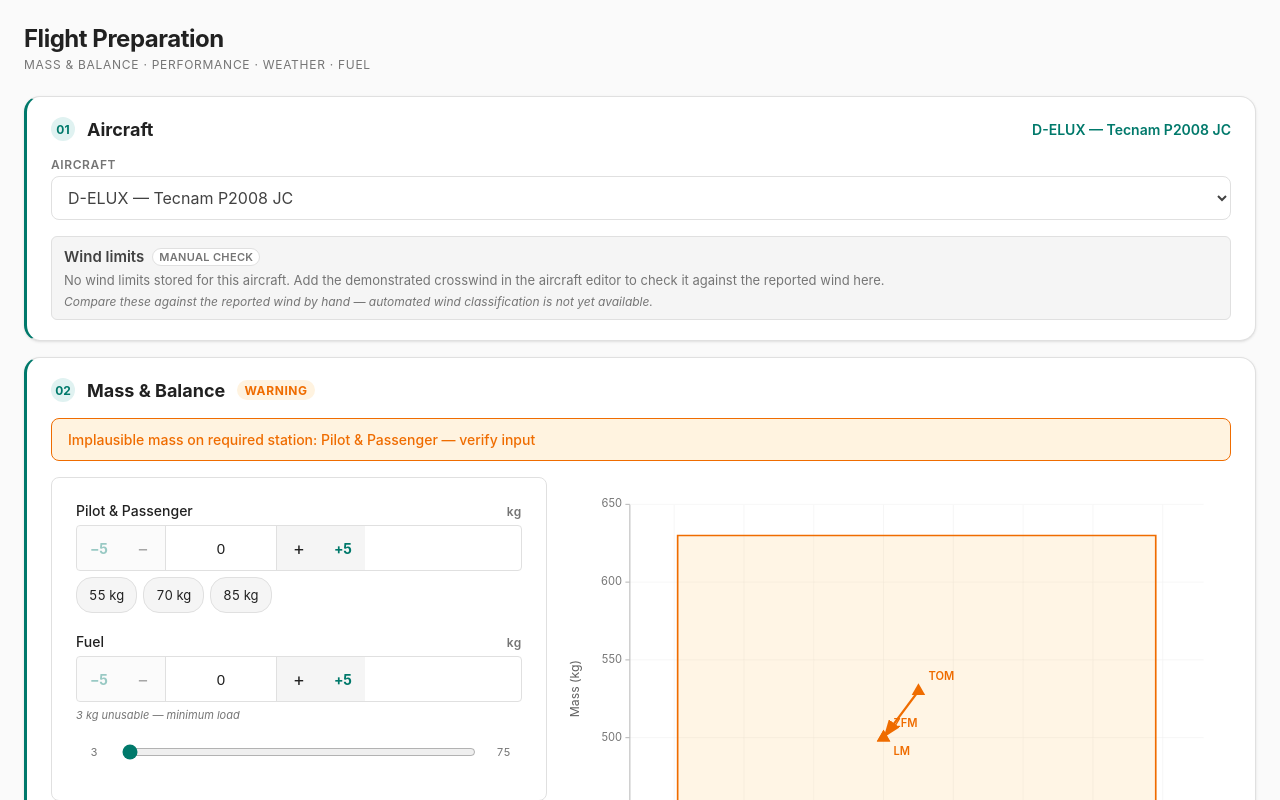
Test: MassBalanceView — Reset Payload confirm + undo › cancelling the confirmation leaves weights untouched
Replace the text in the field with id "station-0" with "80": (221, 548) [165,526,277,570]
(page scrolled)
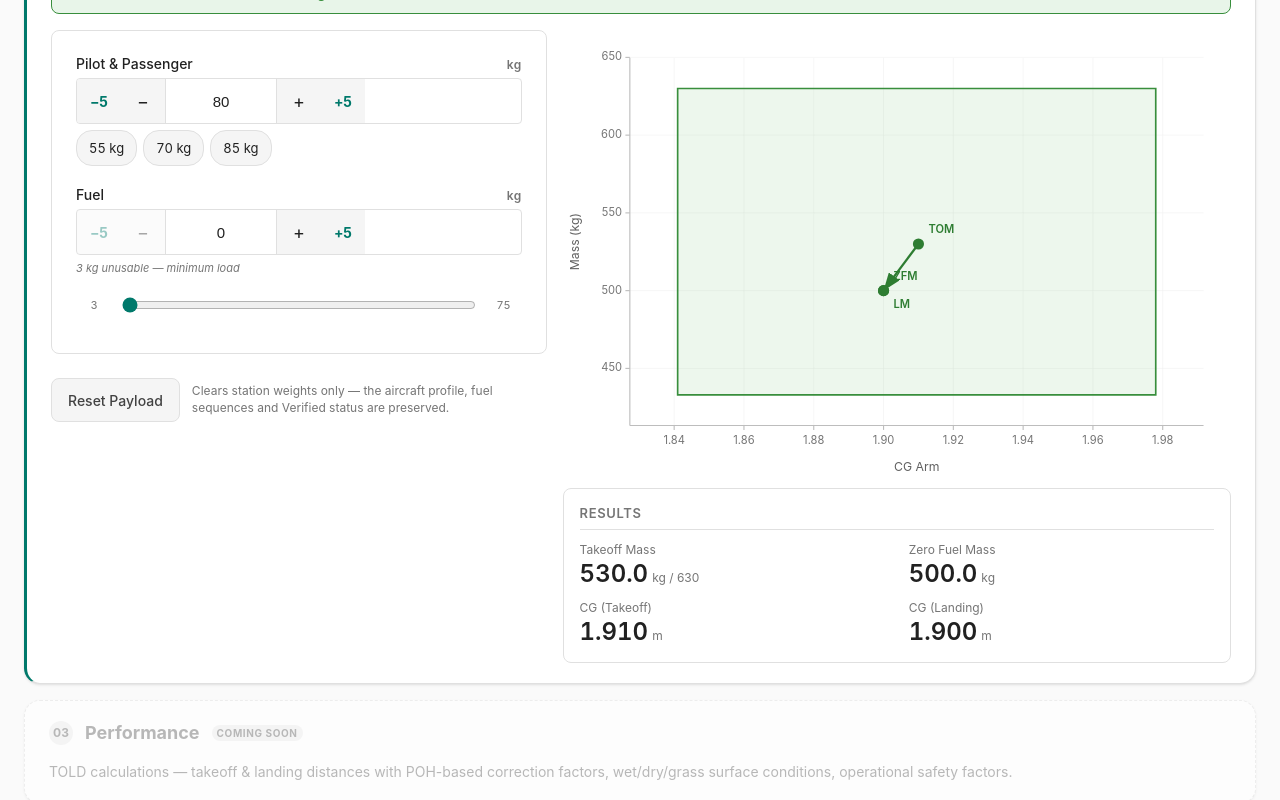
Click the button "Reset Payload": (115, 400) [51,378,180,422]
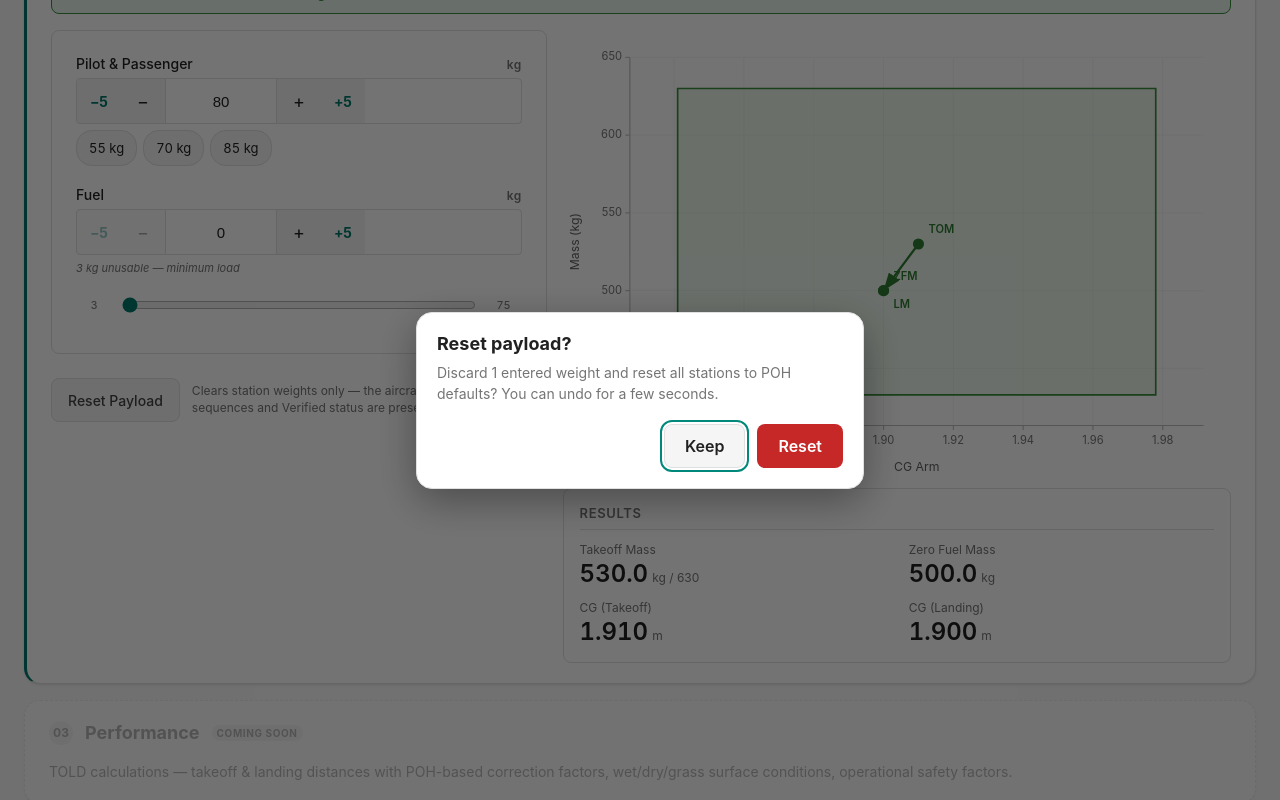
Click the button with class "confirm-dialog__btn--cancel": (705, 446) [664,424,745,468]
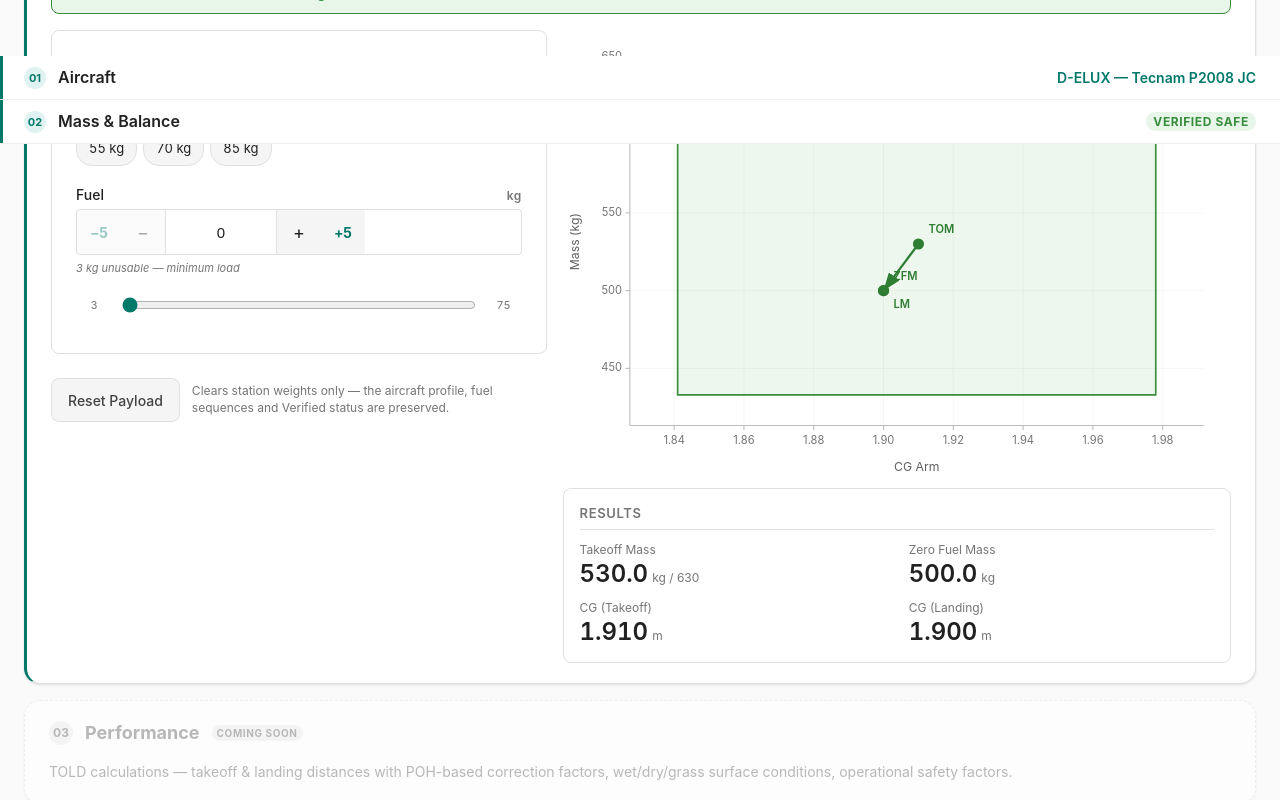
Now the dialog with class "confirm-dialog" is gone
